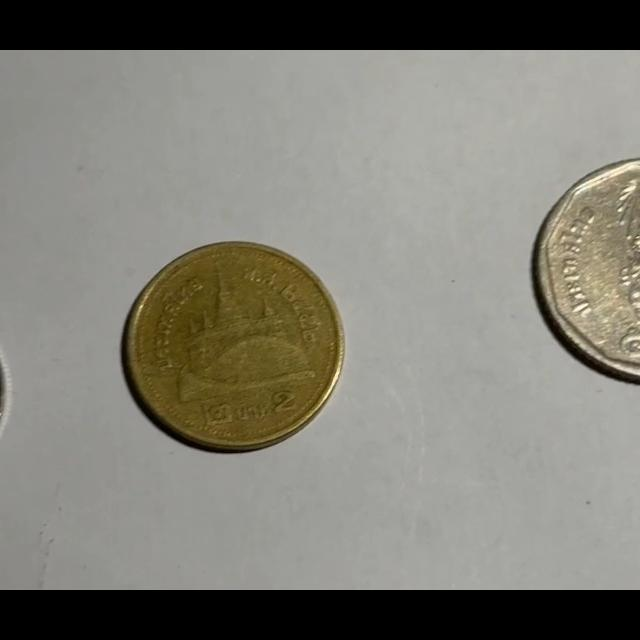2-baht: (123, 242, 343, 451)
5-baht: (507, 148, 640, 397)
